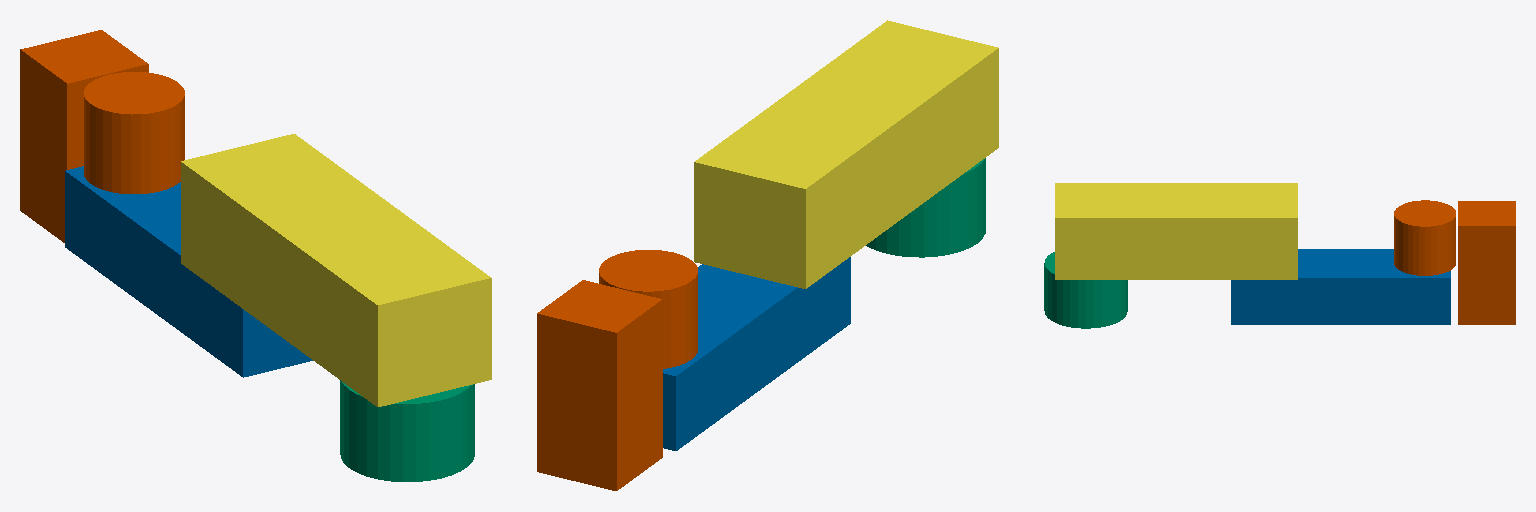
robot.urdf — robot:
<?xml version="1.0"?>
<robot name="robot" xmlns:xacro="http://ros.org/wiki/xacro">
  <link name="base_link">
  </link>
  <link name="base_slider">
  </link>
  <joint name="base_link_base_slider_joint" type="fixed">
    <parent link="base_link"/>
    <child link="base_slider"/>
    <origin xyz="0 0 0" rpy="0 -1.5707953 0"/>
  </joint>
  <joint name="linear_actuator" type="prismatic">
    <parent link="base_slider"/>
    <child link="robot_base"/>
    <axis xyz="-1 -2.368514e-06 4.1005696e-06"/>
    <origin xyz="0 0 0" rpy="-0.5237906 1.5707916 1.0470034"/>
    <limit effort="10" lower="0" upper="0.4" velocity="10"/>
  </joint>
  <link name="robot_base">
    <visual>
      <origin xyz="0.032 0.023 0.07" rpy="1.5707963 0 0"/>
      <geometry>
        <cylinder radius="0.036" length="0.046"/>
      </geometry>
    </visual>
    <collision>
      <origin xyz="0.032 0.023 0.07" rpy="1.5707963 0 0"/>
      <geometry>
        <cylinder radius="0.036" length="0.046"/>
      </geometry>
    </collision>
  </link>
  <joint name="arm2" type="revolute">
    <parent link="robot_base"/>
    <child link="link_2"/>
    <axis xyz="0 -1 0"/>
    <limit effort="9.5" lower="-1.13446" upper="1.5708" velocity="1.5708"/>
    <origin xyz="0.033 0 0.07" rpy="0 0 0"/>
  </joint>
  <link name="link_2">
    <visual>
      <origin xyz="0 -0.03 0.078" rpy="0 0 0"/>
      <geometry>
        <box size="0.07 0.06 0.21"/>
      </geometry>
    </visual>
    <collision>
      <origin xyz="0 -0.03 0.078" rpy="0 0 0"/>
      <geometry>
        <box size="0.07 0.06 0.21"/>
      </geometry>
    </collision>
  </link>
  <joint name="arm3" type="revolute">
    <parent link="link_2"/>
    <child link="link_3"/>
    <axis xyz="0 -1 0"/>
    <limit effort="6" lower="-2.63545" upper="2.54818" velocity="1.5708"/>
    <origin xyz="0 0 0.155" rpy="0 0 0"/>
  </joint>
  <link name="link_3">
    <visual>
      <origin xyz="0 0.0225 0.065" rpy="0 0 0"/>
      <geometry>
        <box size="0.06 0.045 0.19"/>
      </geometry>
    </visual>
    <collision>
      <origin xyz="0 0.0225 0.065" rpy="0 0 0"/>
      <geometry>
        <box size="0.06 0.045 0.19"/>
      </geometry>
    </collision>
  </link>
  <joint name="arm4" type="revolute">
    <parent link="link_3"/>
    <child link="link_4"/>
    <axis xyz="0 -1 0"/>
    <limit effort="2" lower="-1.78024" upper="1.78024" velocity="1.5708"/>
    <origin xyz="0 0 0.135" rpy="0 0 0"/>
  </joint>
  <link name="link_4">
    <visual>
      <origin xyz="0 0 0.056" rpy="0 0 0"/>
      <geometry>
        <box size="0.05 0.095 0.05"/>
      </geometry>
    </visual>
    <collision>
      <origin xyz="0 0 0.056" rpy="0 0 0"/>
      <geometry>
        <box size="0.05 0.095 0.05"/>
      </geometry>
    </collision>
    <visual>
      <origin xyz="0 -0.024 0.003" rpy="1.5707963 0 0"/>
      <geometry>
        <cylinder radius="0.027" length="0.047"/>
      </geometry>
    </visual>
    <collision>
      <origin xyz="0 -0.024 0.003" rpy="1.5707963 0 0"/>
      <geometry>
        <cylinder radius="0.027" length="0.047"/>
      </geometry>
    </collision>
  </link>
  <joint name="arm5" type="revolute">
    <parent link="link_4"/>
    <child link="link_5"/>
    <axis xyz="0 0 1"/>
    <limit effort="1" lower="-2.92343" upper="2.92343" velocity="1.5708"/>
    <origin xyz="0 0 0.081" rpy="0 0 0"/>
  </joint>
  <link name="link_5">
  </link>
  <link name="platform">
  </link>
  <joint name="base_link_platform_joint" type="fixed">
    <parent link="base_link"/>
    <child link="platform"/>
    <origin xyz="-0.24 -0.01 0" rpy="3.1415927 -1.5707927 3.1415927"/>
  </joint>
</robot>

--- Facts derived from the render (not from the file) ---
The picture shows the robot from 3 angles, left to right: view 1: azimuth 30°, elevation 25°; view 2: azimuth 150°, elevation 25°; view 3: azimuth 270°, elevation 25°; orthographic projection.
Model robot with 8 links and 7 joints (4 revolute, 1 prismatic, 2 fixed), rooted at base_link, posed every joint at zero.
Visible links, largest first — view 1: link_2, link_4, link_3, robot_base; view 2: link_2, link_4, link_3, robot_base; view 3: link_2, link_3, link_4, robot_base.
Boxes of the visible links, <box> form: link_2: <box>181,134,491,406</box>; link_4: <box>20,30,184,242</box>; link_3: <box>65,166,312,377</box>; robot_base: <box>340,380,474,481</box>; link_2: <box>694,20,998,288</box>; link_4: <box>537,250,697,490</box>; link_3: <box>663,257,850,450</box>; robot_base: <box>866,158,985,257</box>; link_2: <box>1055,183,1297,279</box>; link_3: <box>1231,249,1450,324</box>; link_4: <box>1394,200,1515,324</box>; robot_base: <box>1044,252,1127,328</box>.
Size in the robot's own frame: 0.072 by 0.407 by 0.1075 metres.
Geometry: primitives only (box / cylinder / sphere), no mesh files.